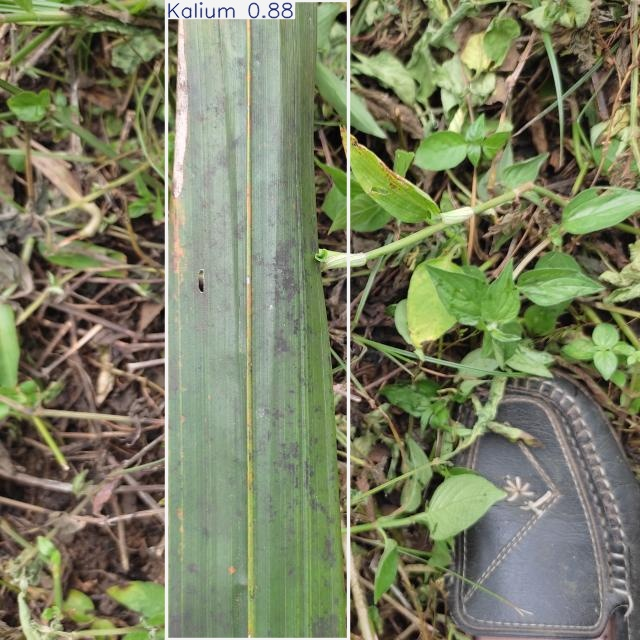Kalium: (166, 0, 349, 640)
